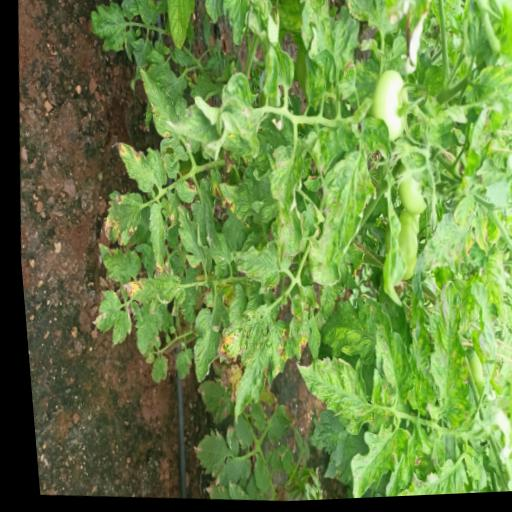Early Blight: (219, 311, 289, 433), (105, 136, 169, 200), (90, 187, 144, 252), (275, 294, 308, 372), (138, 198, 168, 278), (167, 176, 195, 211), (466, 220, 486, 260)
